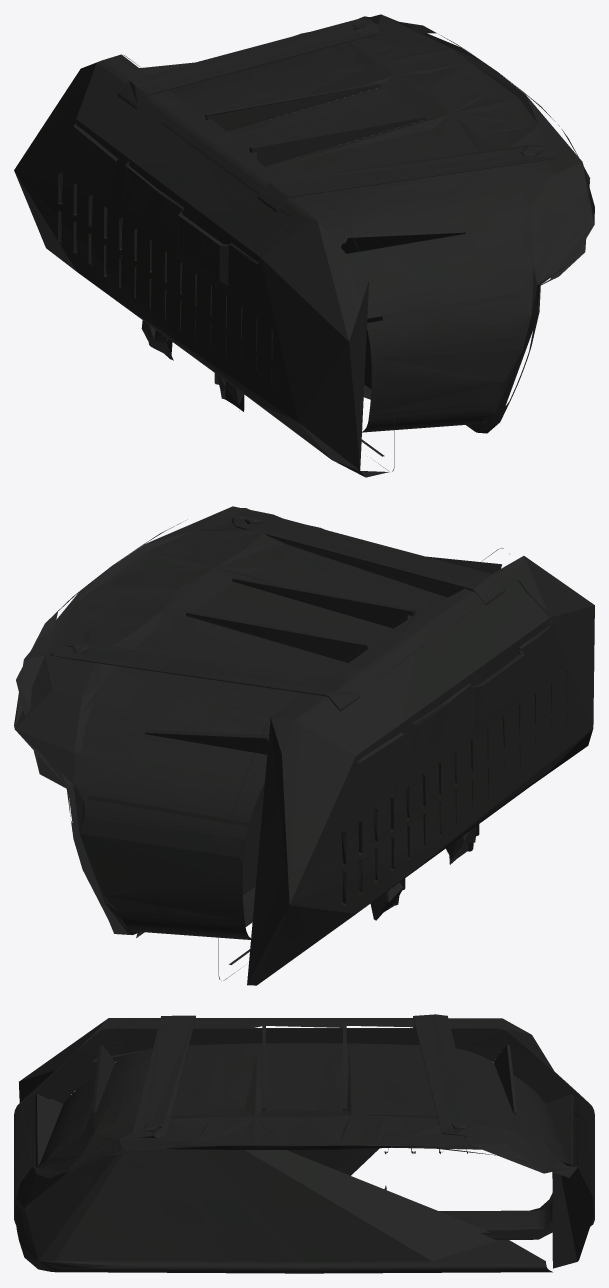
File: interiorPart_dashboard_b01.glb
The picture shows the model from 3 angles, top to bottom: view 1: azimuth 30°, elevation 25°; view 2: azimuth 150°, elevation 25°; view 3: azimuth 270°, elevation 25°; orthographic projection. The views are drawn at different scales.
Visible parts, largest first — view 1: geometry_0; view 2: geometry_0; view 3: geometry_0.
Boxes of the visible parts, x1=… form: geometry_0: x1=14, y1=14, x2=594, y2=477; geometry_0: x1=14, y1=506, x2=594, y2=985; geometry_0: x1=14, y1=1014, x2=594, y2=1273.
Size of the model in its own units: 0.2543 by 0.1735 by 0.42.
1 material, 1 textured.
